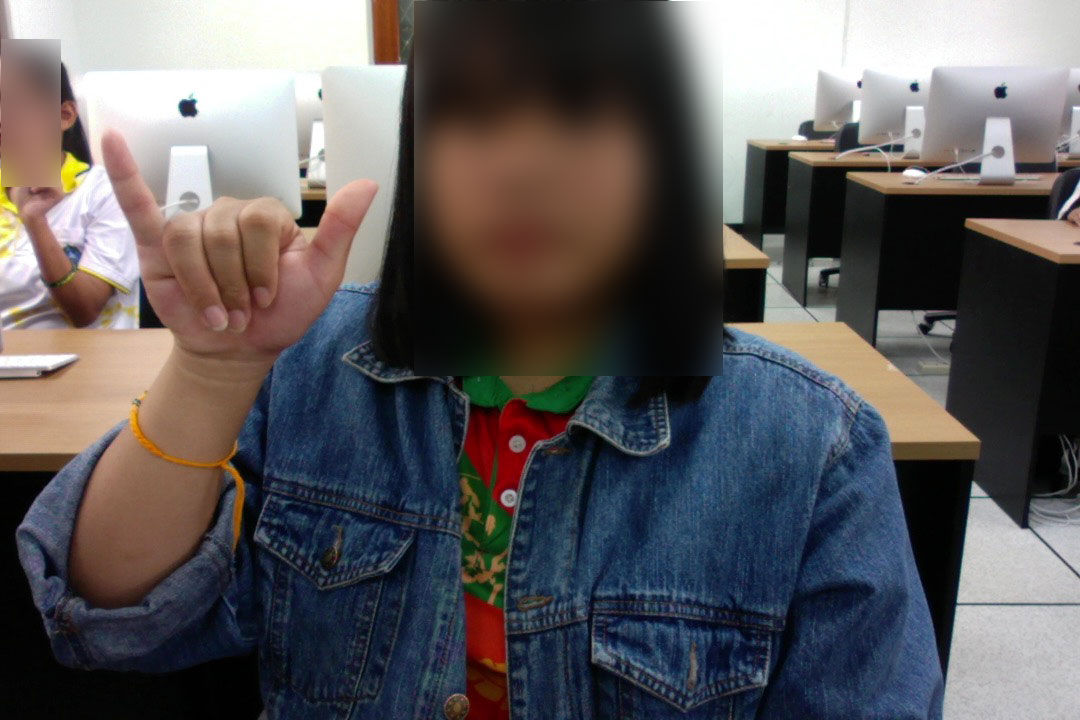yor: (96, 119, 387, 386)
